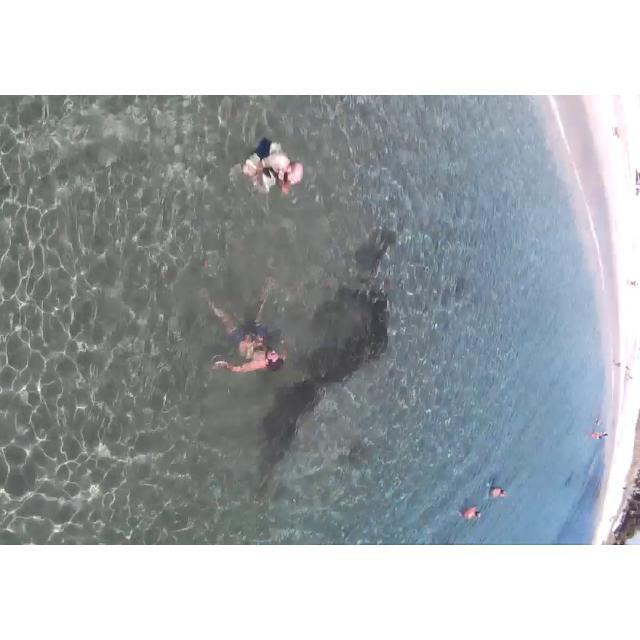human: (201, 286, 288, 385), (232, 127, 306, 209), (490, 479, 507, 506), (462, 508, 485, 524)
